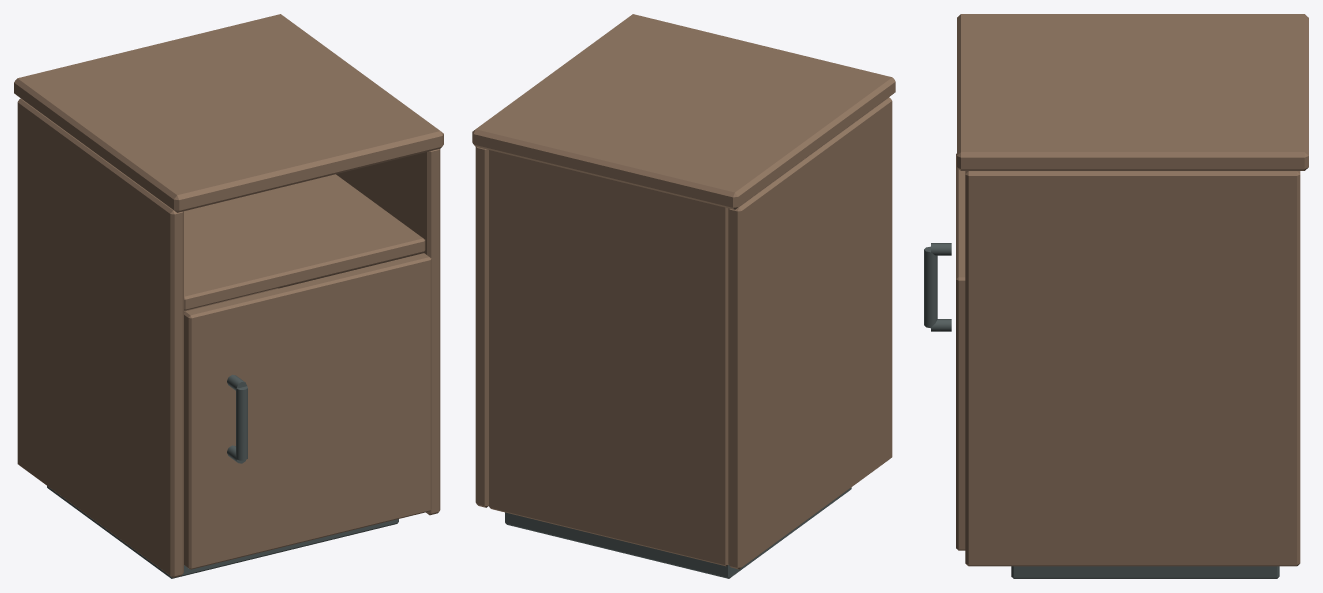
The model's file is dorm-nightstand.glb.
The picture shows the model from 3 angles, left to right: view 1: azimuth 30°, elevation 25°; view 2: azimuth 150°, elevation 25°; view 3: azimuth 270°, elevation 25°; orthographic projection. The views are drawn at different scales.
Parts seen in each view (by area): view 1: dorm-nightstand; view 2: dorm-nightstand; view 3: dorm-nightstand.
Boxes of the visible parts, box(x1,y1,x2,y2) form: dorm-nightstand: box(14, 14, 443, 578); dorm-nightstand: box(472, 14, 895, 578); dorm-nightstand: box(924, 14, 1308, 578).
Bounding box in the file's own units: 0.4 × 0.575 × 0.459.
